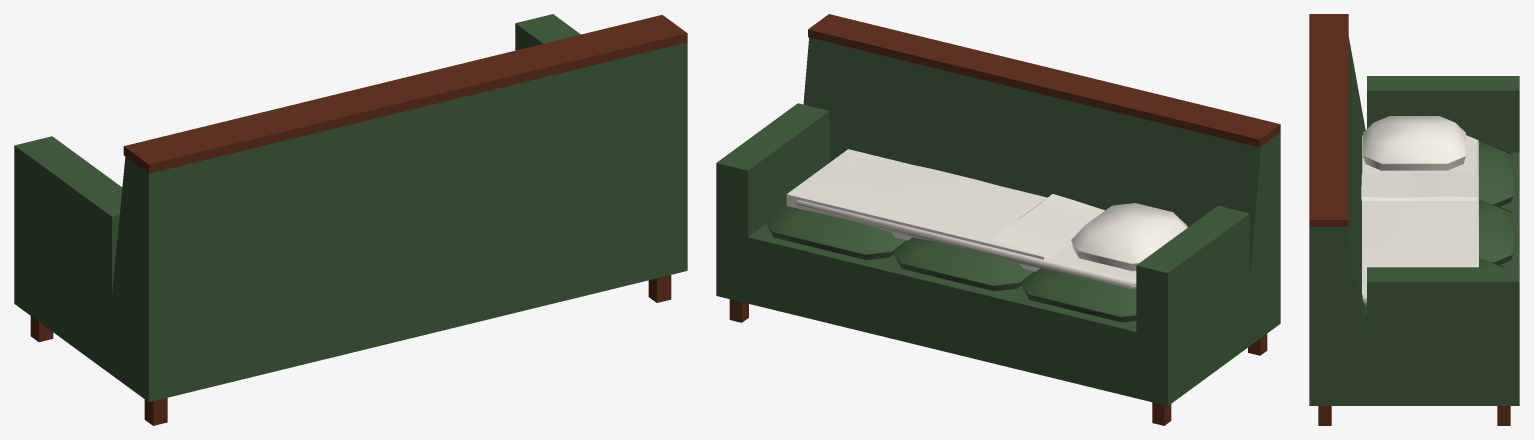
3 views of the same model, side by side, from view 1: azimuth 30°, elevation 25°; view 2: azimuth 150°, elevation 25°; view 3: azimuth 270°, elevation 25° (orthographic). The views are drawn at different scales.
Visible parts, largest first — view 1: parametric-variant-sofa-1st-ea0c3a8606c7b27fe22f; view 2: parametric-variant-sofa-1st-ea0c3a8606c7b27fe22f; view 3: parametric-variant-sofa-1st-ea0c3a8606c7b27fe22f.
Part boxes in pixels (x1,y1,x2,y2): parametric-variant-sofa-1st-ea0c3a8606c7b27fe22f: [14, 14, 687, 425]; parametric-variant-sofa-1st-ea0c3a8606c7b27fe22f: [716, 14, 1280, 425]; parametric-variant-sofa-1st-ea0c3a8606c7b27fe22f: [1309, 14, 1519, 425].
Bounding box in the file's own units: 1.85 × 0.88 × 0.8.
